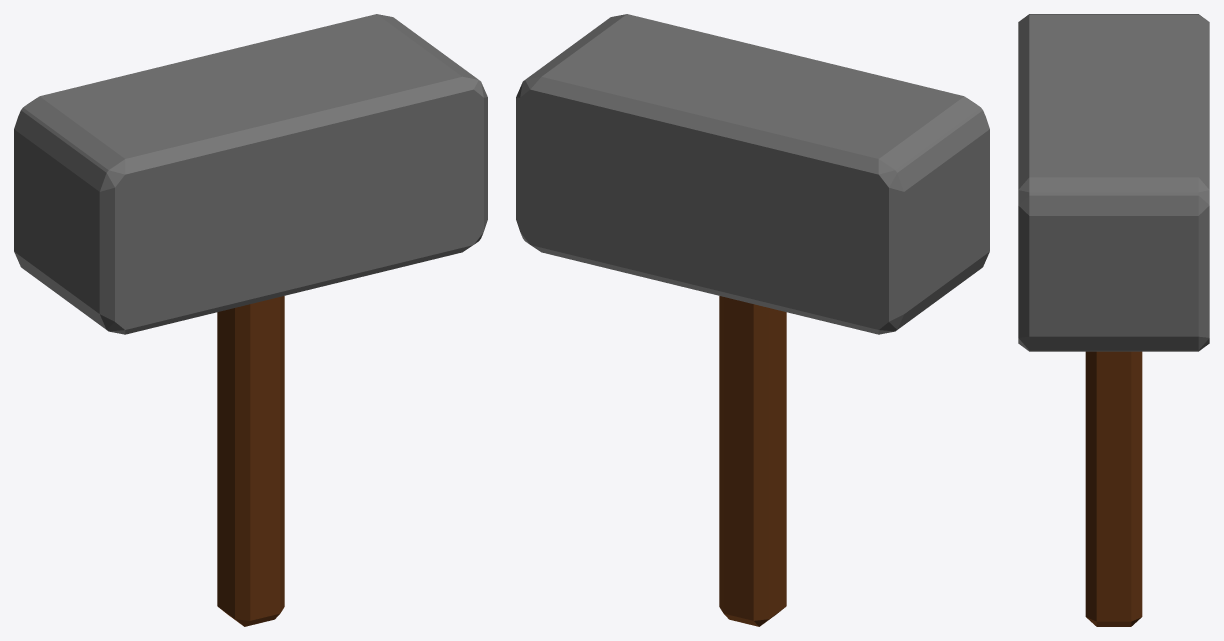
Rendered from hammer.fbx.
The picture shows the model from 3 angles, left to right: view 1: azimuth 30°, elevation 25°; view 2: azimuth 150°, elevation 25°; view 3: azimuth 270°, elevation 25°; orthographic projection.
Parts seen in each view (by area): view 1: Hammer; view 2: Hammer; view 3: Hammer.
Part boxes in pixels (<box>): Hammer: <box>14,14,487,626</box>; Hammer: <box>516,14,989,626</box>; Hammer: <box>1018,14,1209,626</box>.
Size of the model in its own units: 80.08 by 105 by 34.63.
